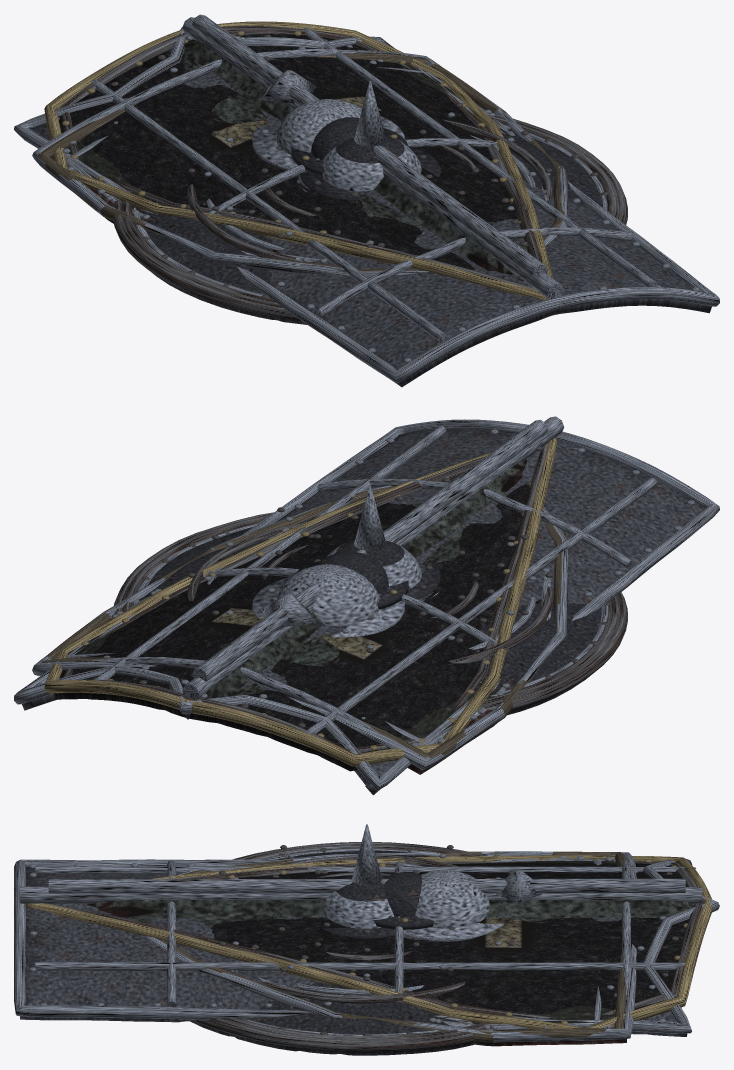
Rendered from items_shields_c.glb.
The picture shows the model from 3 angles, top to bottom: view 1: azimuth 30°, elevation 25°; view 2: azimuth 150°, elevation 25°; view 3: azimuth 270°, elevation 25°; orthographic projection. The views are drawn at different scales.
Parts seen in each view (by area): view 1: shield_grave_wall, shield_obsidian_aegis, shield_war_tower, shield_crypt_round, shield_parish_kite, shield_spire_targe, shield_ash_guard, shield_wicker_round, shield_briar_targe; view 2: shield_grave_wall, shield_obsidian_aegis, shield_war_tower, shield_crypt_round, shield_parish_kite, shield_spire_targe, shield_wicker_round, shield_ash_guard, shield_briar_targe; view 3: shield_grave_wall, shield_obsidian_aegis, shield_war_tower, shield_crypt_round, shield_parish_kite, shield_spire_targe, shield_ash_guard, shield_wicker_round, shield_briar_targe.
Part boxes in pixels (<box>): shield_grave_wall: <box>14,17,719,387</box>; shield_obsidian_aegis: <box>44,21,553,300</box>; shield_war_tower: <box>60,14,547,289</box>; shield_crypt_round: <box>113,80,627,324</box>; shield_parish_kite: <box>32,50,568,277</box>; shield_spire_targe: <box>38,52,564,271</box>; shield_ash_guard: <box>132,112,607,297</box>; shield_wicker_round: <box>121,114,619,304</box>; shield_briar_targe: <box>66,67,548,261</box>; shield_grave_wall: <box>14,416,719,795</box>; shield_obsidian_aegis: <box>44,437,557,771</box>; shield_war_tower: <box>63,419,548,752</box>; shield_crypt_round: <box>114,485,627,715</box>; shield_parish_kite: <box>32,485,568,774</box>; shield_spire_targe: <box>41,486,561,758</box>; shield_wicker_round: <box>121,515,619,705</box>; shield_ash_guard: <box>133,516,608,696</box>; shield_briar_targe: <box>66,522,551,744</box>; shield_grave_wall: <box>14,859,719,1036</box>; shield_obsidian_aegis: <box>25,855,712,1029</box>; shield_war_tower: <box>46,861,704,1018</box>; shield_crypt_round: <box>190,824,514,1055</box>; shield_parish_kite: <box>147,851,636,1046</box>; shield_spire_targe: <box>160,851,625,1046</box>; shield_ash_guard: <box>232,848,501,1035</box>; shield_wicker_round: <box>222,844,493,1040</box>; shield_briar_targe: <box>258,858,601,1029</box>.
Size of the model in its own units: 0.636 by 0.2192 by 0.9312.
Materials: 14 (14 with a texture image).
